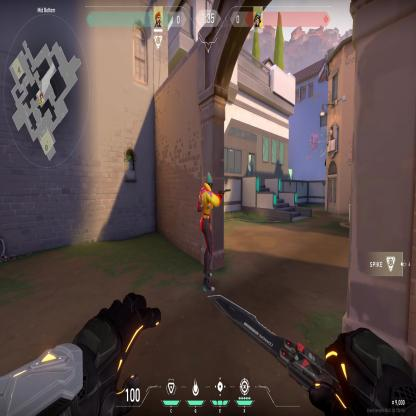enemy: (196, 170, 219, 294)
